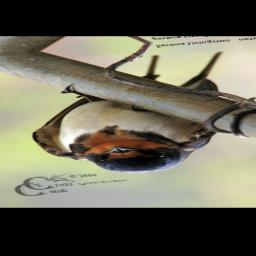Swallow: (0, 50, 256, 179)
